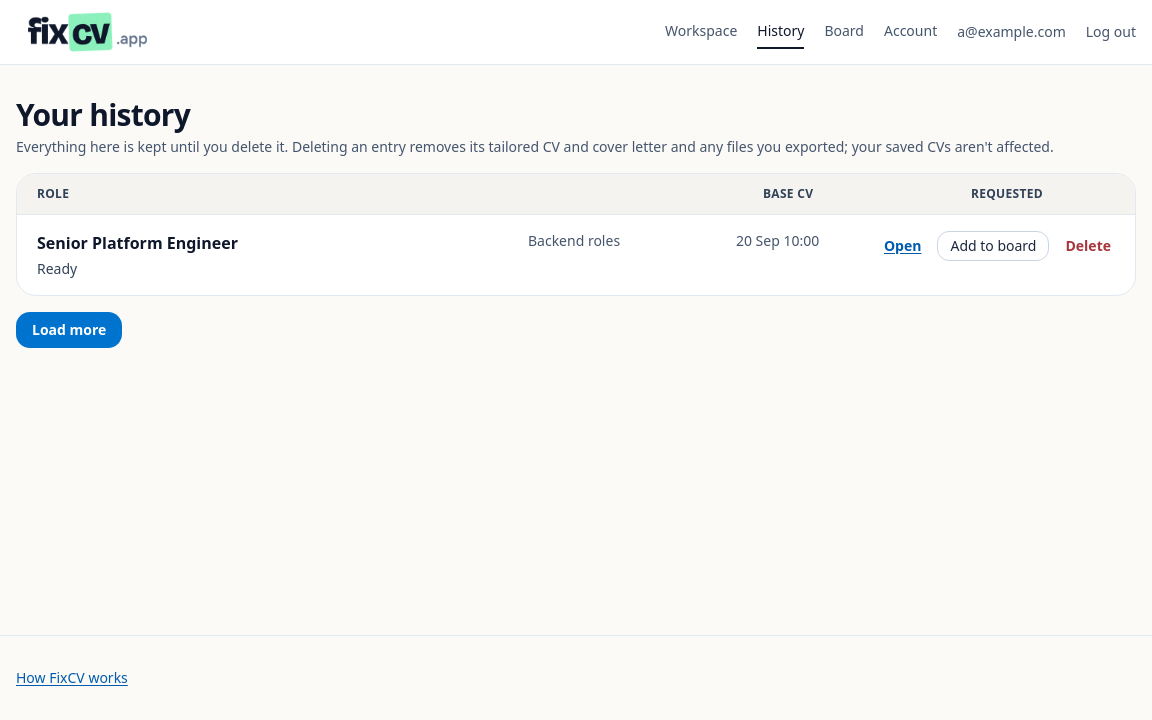
HistoryPage — Load more (AC-44, H-59) › appears only when there is a next page, and fetches it with the cursor
Check: the text "Senior Platform Engineer" is shown, box x1=37 y1=231 x2=238 y2=255
Step 1. Click the button "Load more" → (69, 330), box x1=16 y1=312 x2=122 y2=348
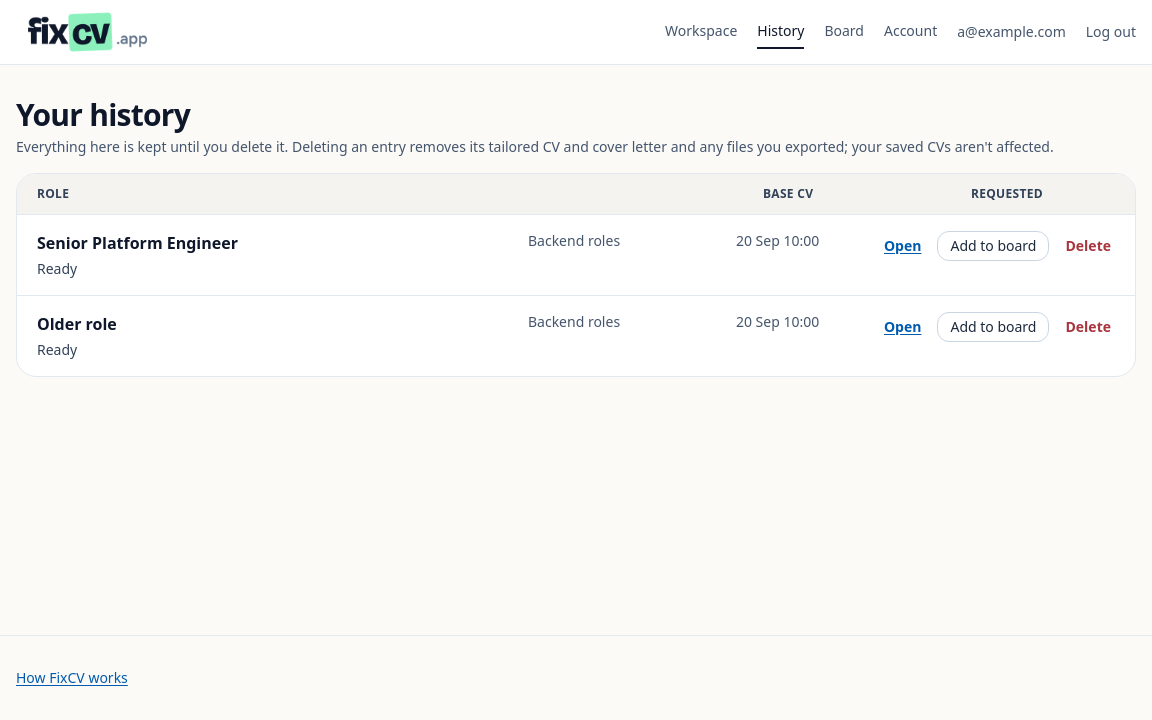
Check: the text "Senior Platform Engineer" is shown, box x1=37 y1=231 x2=238 y2=255
Check: the text "Older role" is shown, box x1=37 y1=312 x2=117 y2=336
Check: the button "Load more" is gone
